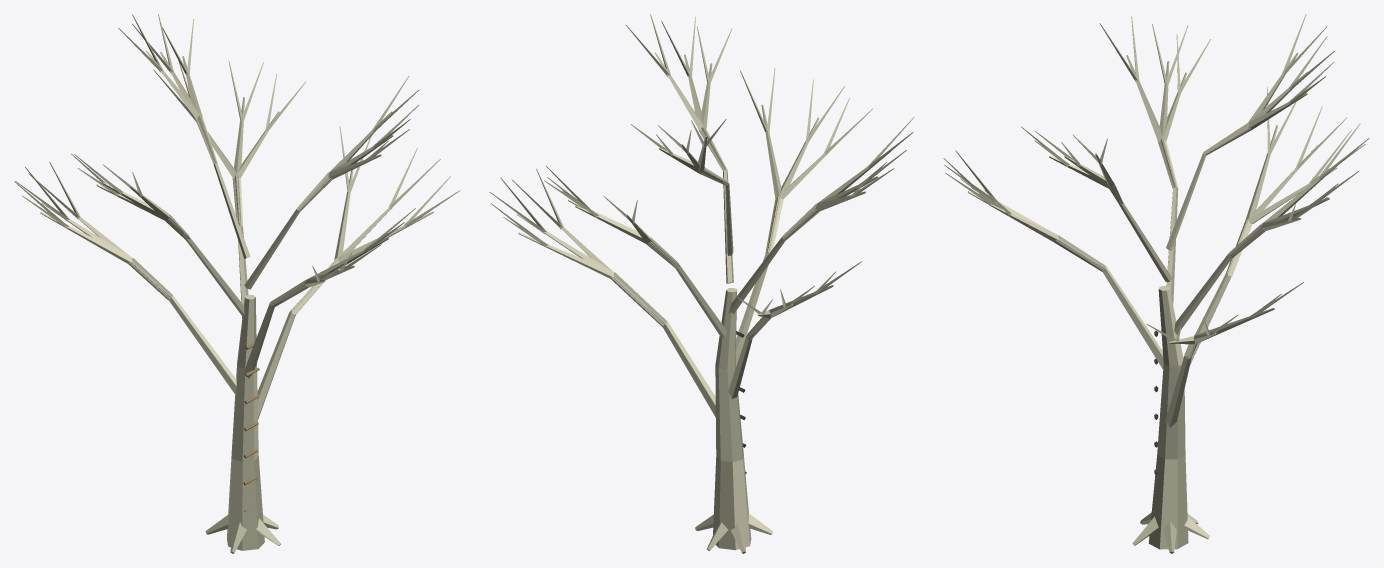
The model's file is tree_birch_bare.obj.
3 views of the same model, side by side, from view 1: azimuth 30°, elevation 25°; view 2: azimuth 150°, elevation 25°; view 3: azimuth 270°, elevation 25° (orthographic). The views are drawn at different scales.
Parts seen in each view (by area): view 1: tree_birch_bare; view 2: tree_birch_bare; view 3: tree_birch_bare.
Part boxes in pixels (<box>): tree_birch_bare: <box>14,14,460,553</box>; tree_birch_bare: <box>489,14,914,553</box>; tree_birch_bare: <box>943,14,1369,553</box>.
Size of the model in its own units: 430 by 510 by 396.
Materials: 1 (1 with a texture image).
